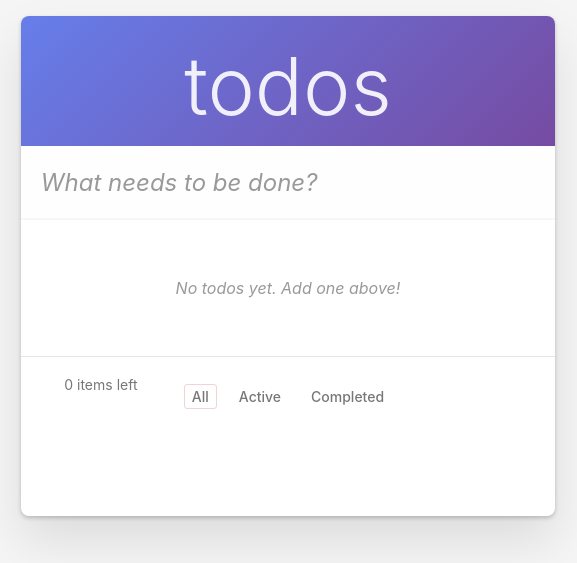
Test: Todo App › Adding todos › should add a new todo when form is submitted
Type "Learn React" into the field with placeholder "What needs to be done?" at (288, 183), box [21,146,555,220]
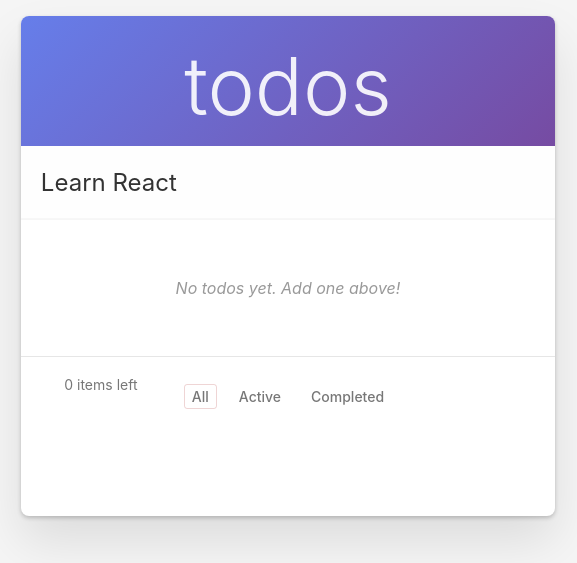
Press Enter
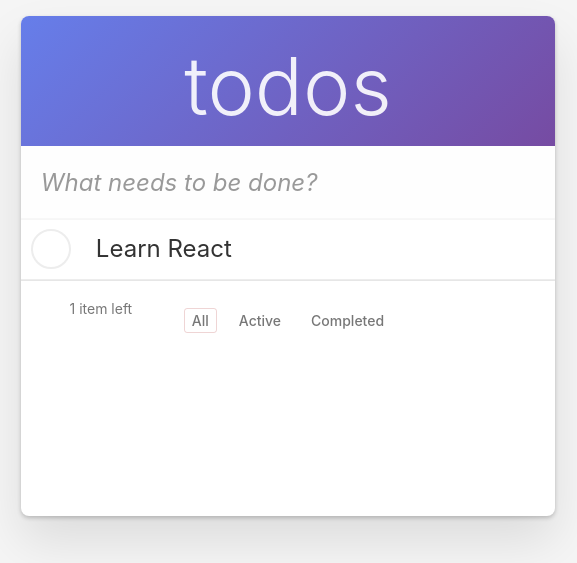
Now the text "Learn React" is shown, box [96,234,232,263]
Now the field with placeholder "What needs to be done?" is empty, box [21,146,555,220]
